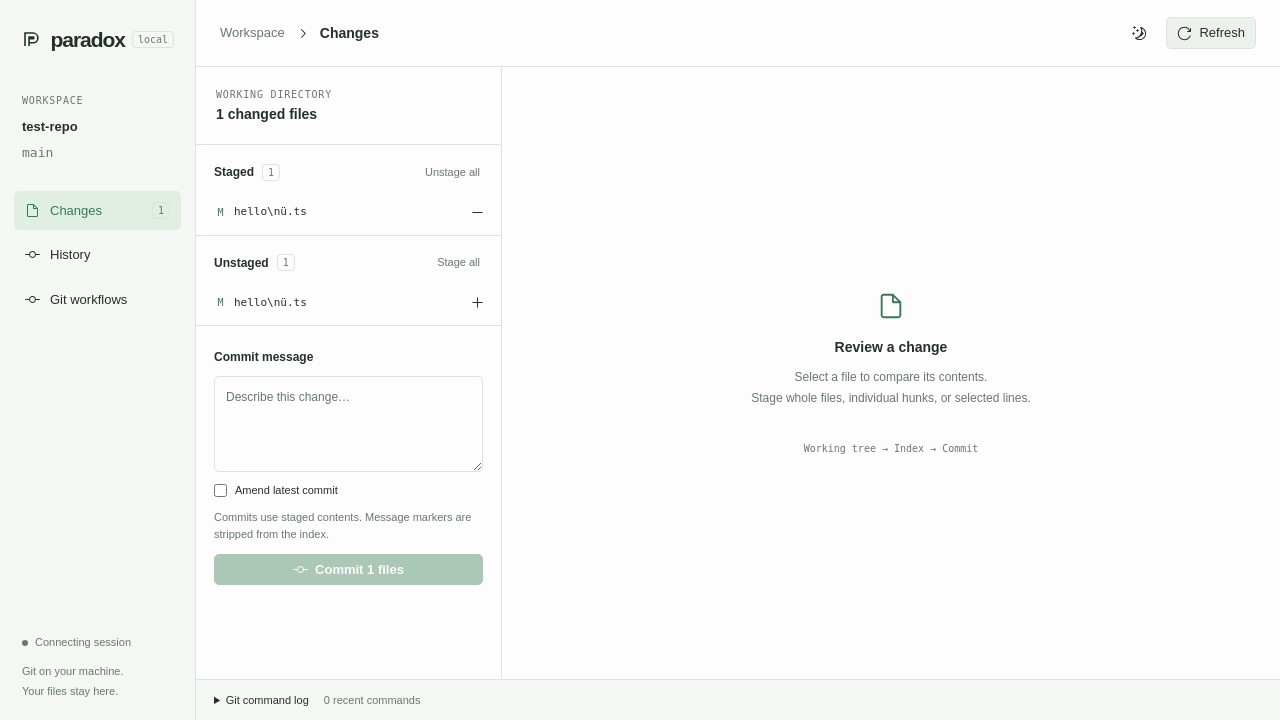
Test case: Workspace index actions › displays escaped paths but stages the original exact Git filename
Click the button named "Stage hello\\nü.ts" at (478, 303), box [463, 288, 492, 318]
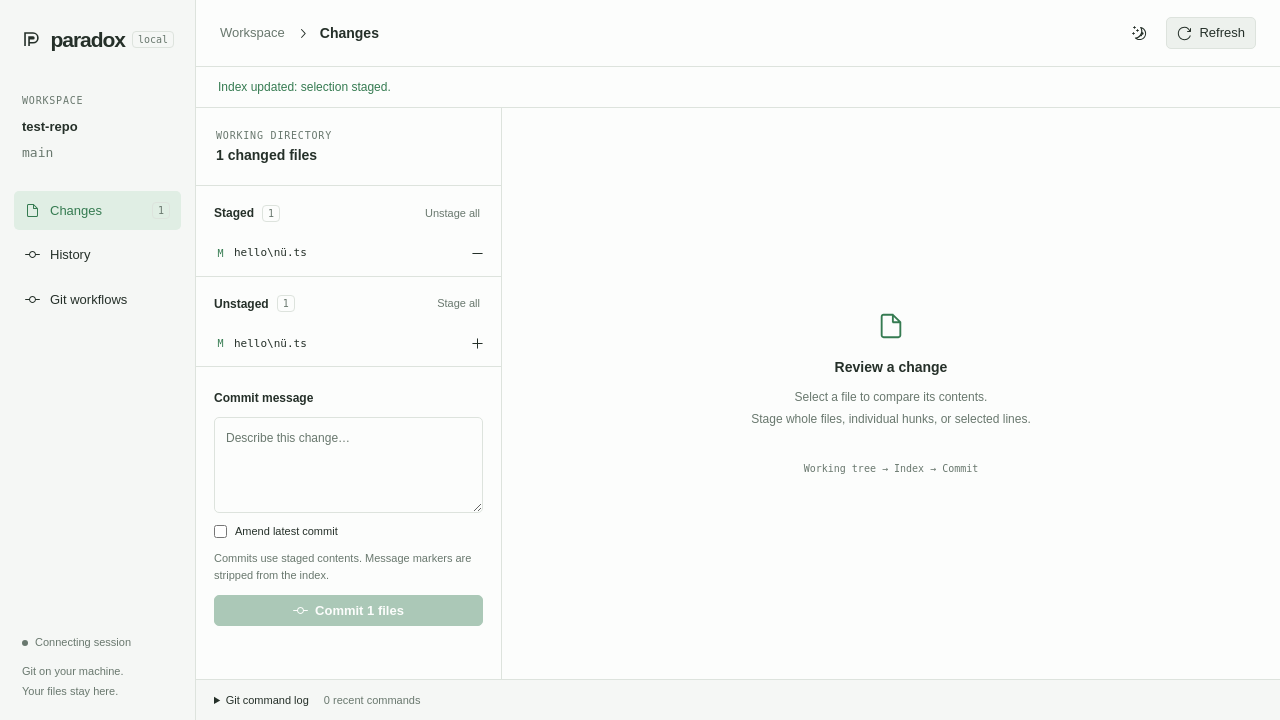
Check: the message shows "selection staged", box [218, 80, 391, 94]
